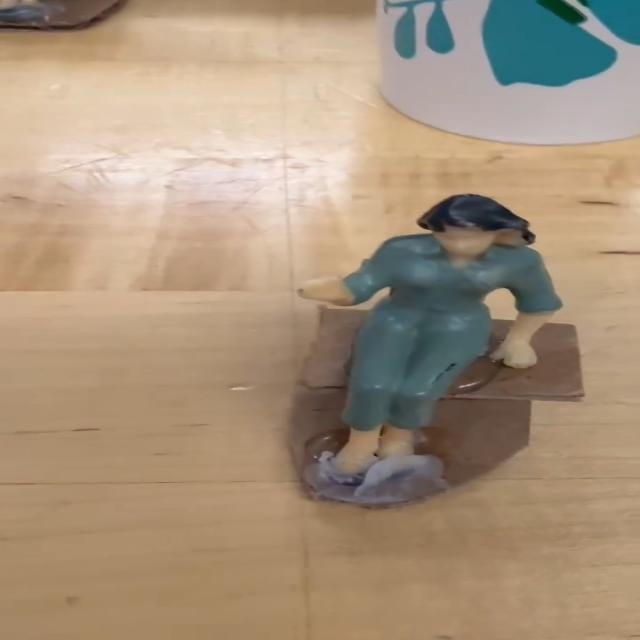Authorized: (284, 179, 585, 481)
